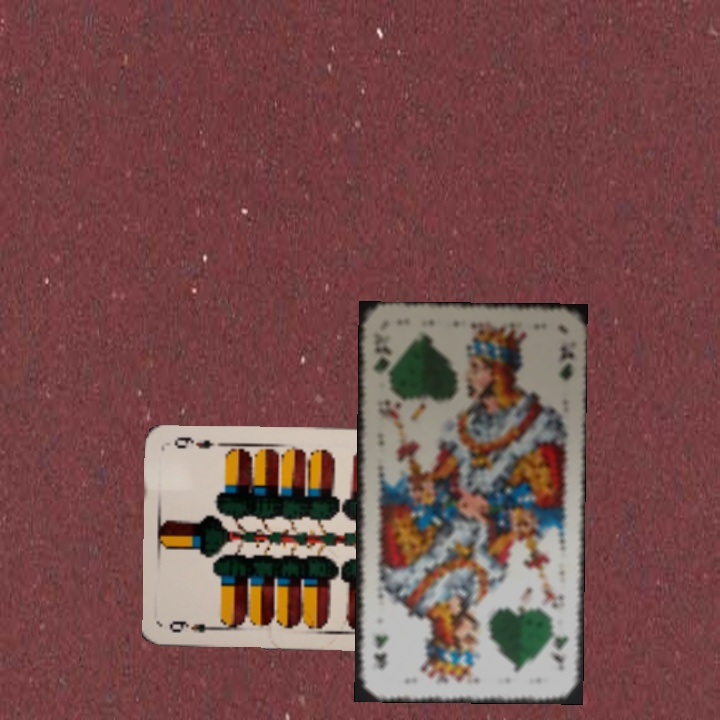E9: (165, 616, 223, 636)
GK: (548, 618, 571, 675), (368, 352, 392, 386)
